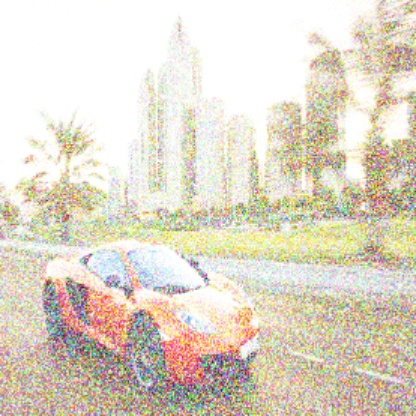Vehicle: (42, 237, 261, 399)
